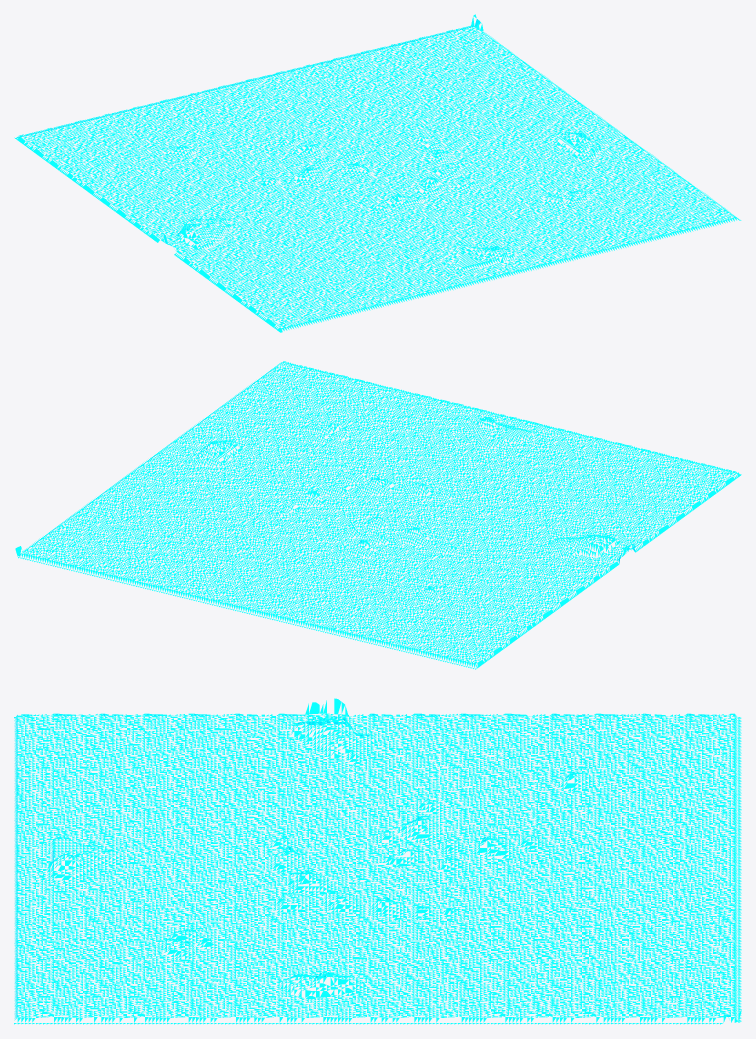
File: 28_naval_mission.glb
3 views of the same model, one above another, from view 1: azimuth 30°, elevation 25°; view 2: azimuth 150°, elevation 25°; view 3: azimuth 270°, elevation 25° (orthographic). The views are drawn at different scales.
Parts seen in each view (by area): view 1: Terrain; view 2: Terrain; view 3: Terrain.
Boxes of the visible parts, x1=… form: Terrain: x1=14, y1=14, x2=741, y2=332; Terrain: x1=15, y1=361, x2=741, y2=669; Terrain: x1=14, y1=698, x2=741, y2=1024.
Size of the model in its own units: 1793 by 55.86 by 1793.
